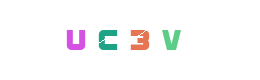3: (97, 0, 177, 80)
C: (90, 0, 170, 80)
U: (36, 0, 116, 80)
V: (100, 0, 180, 80)
